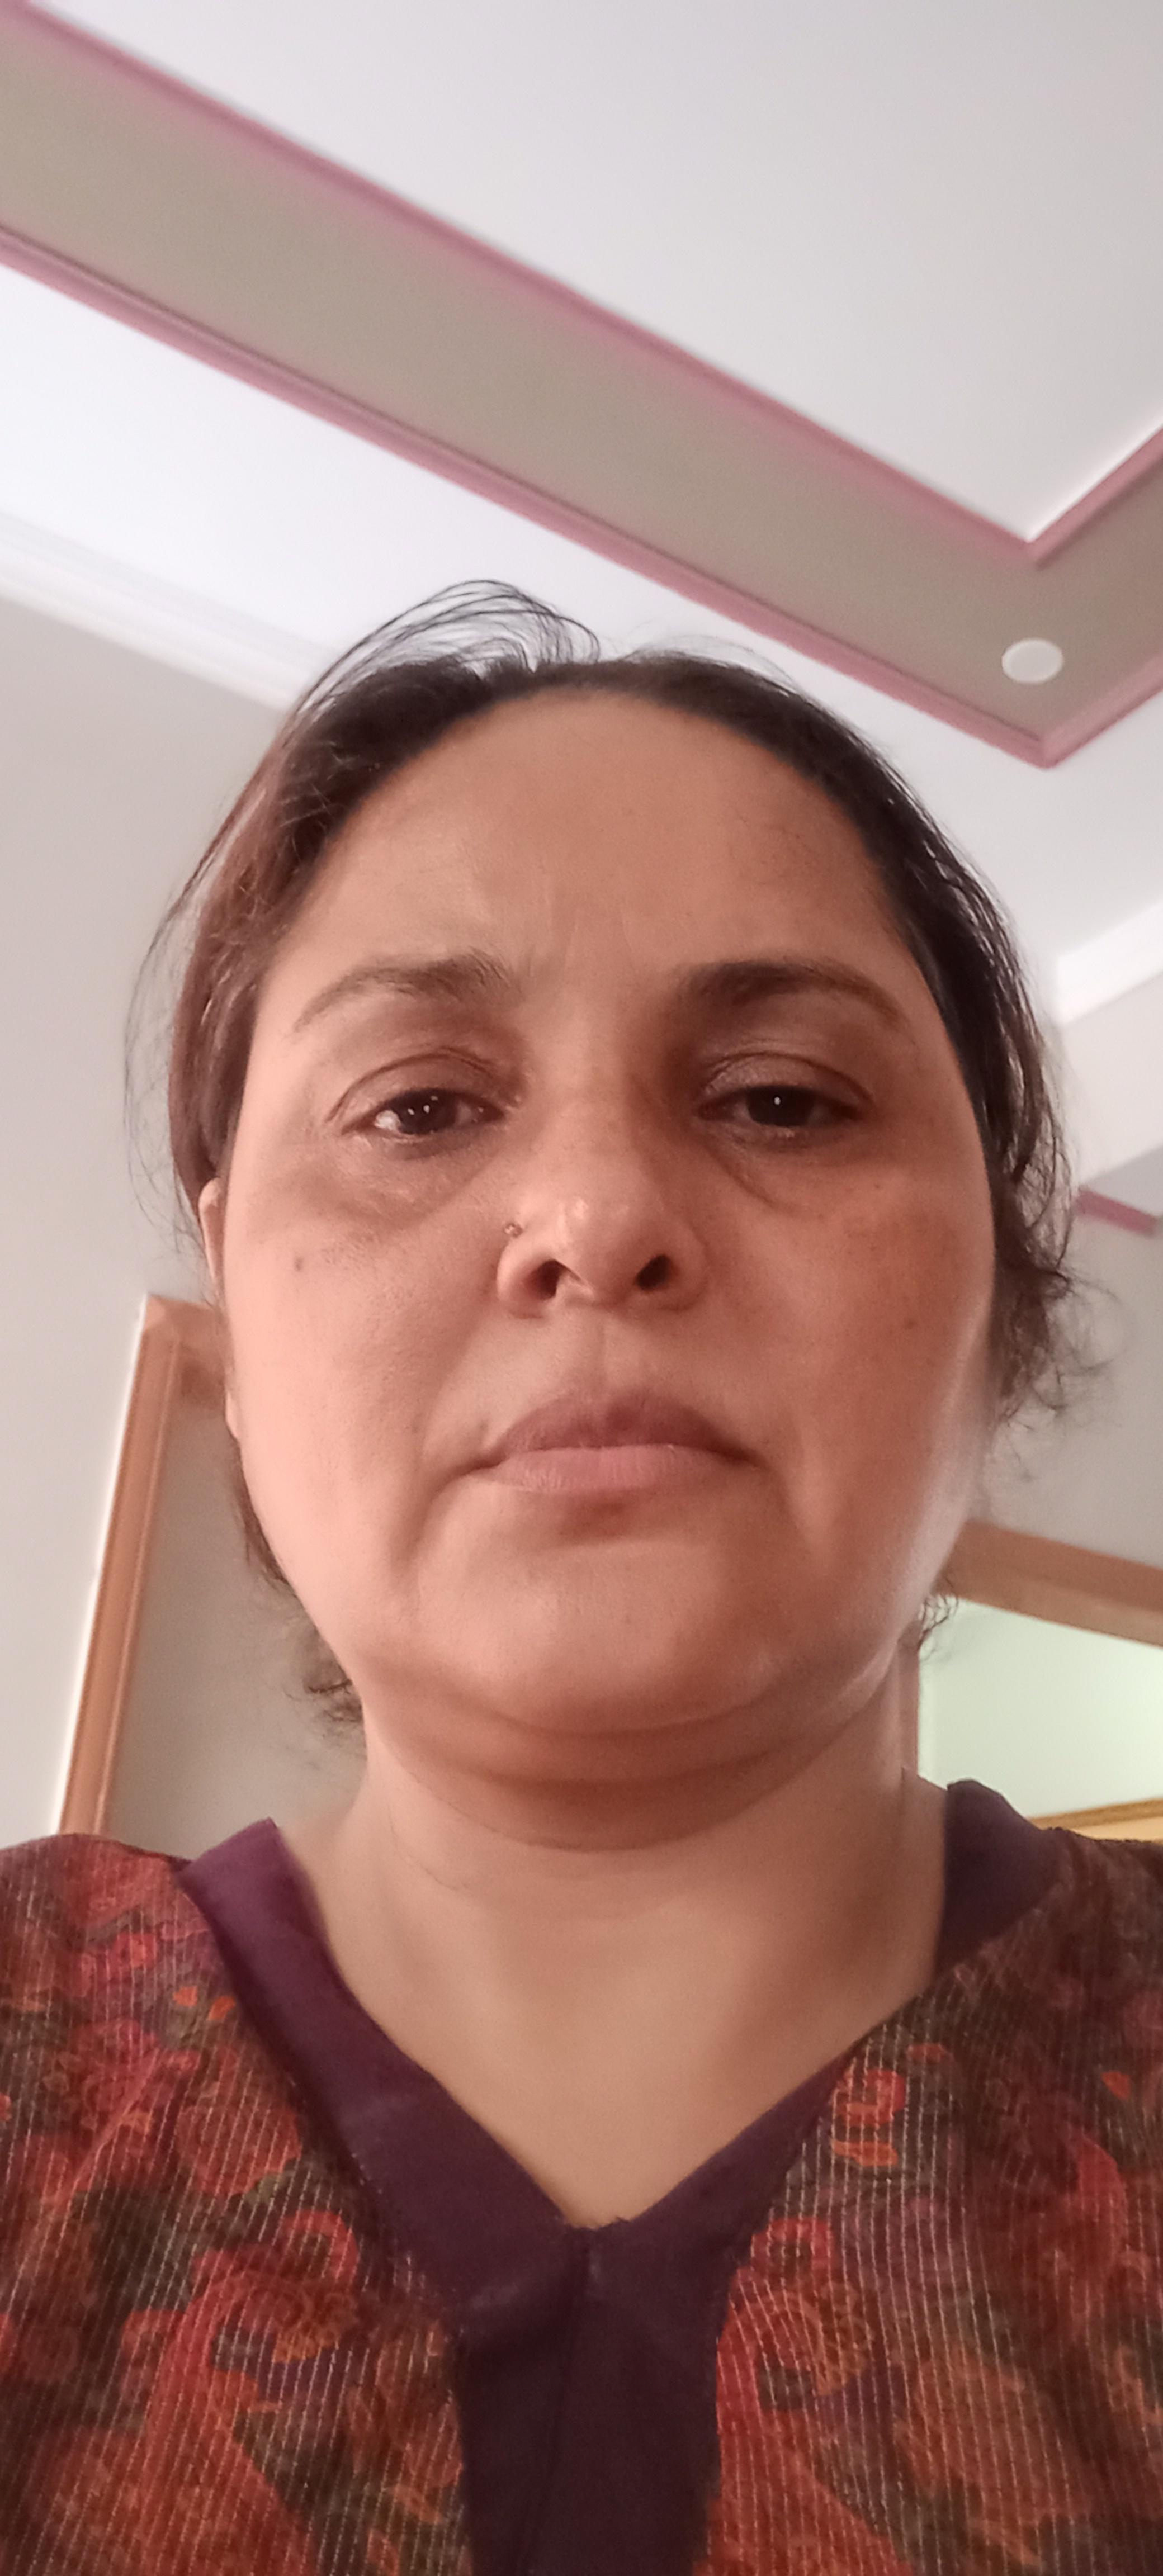Acne: (897, 1311, 920, 1337)
Wrinkles: (407, 1309, 485, 1483), (394, 1163, 488, 1235), (399, 1472, 448, 1594), (708, 1147, 775, 1209), (769, 1456, 811, 1549), (718, 1290, 767, 1368), (779, 1395, 808, 1487), (616, 910, 649, 991), (554, 909, 581, 984)
